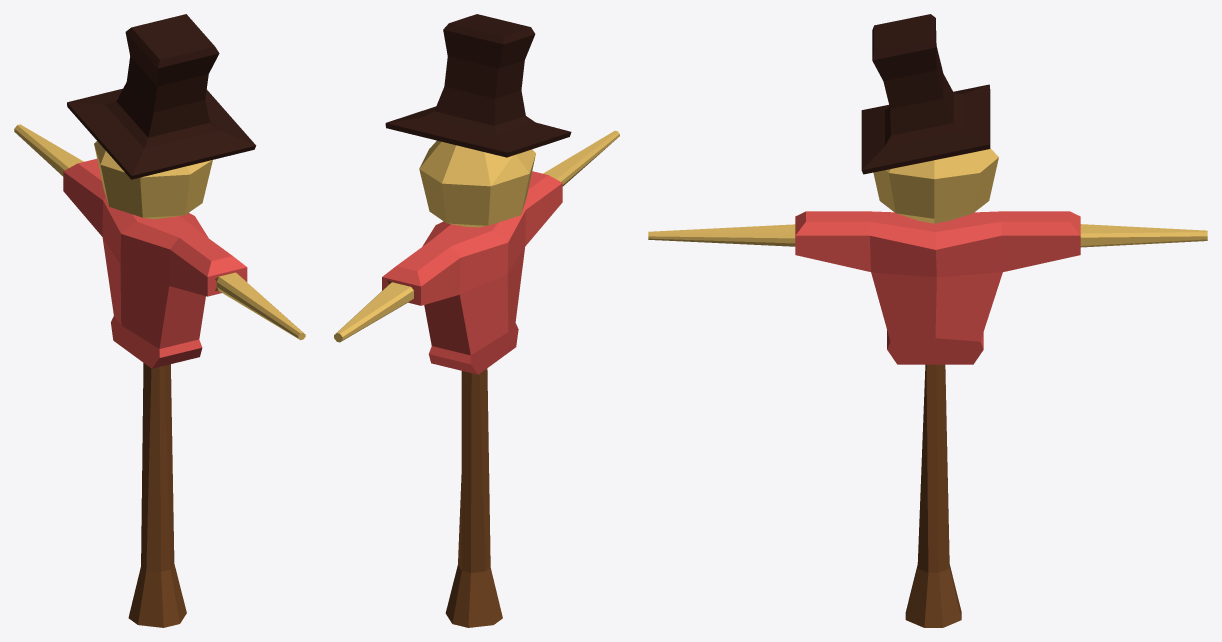
Rendered from Jam.scarerow.FINAL.fbx.
3 views of the same model, side by side, from view 1: azimuth 30°, elevation 25°; view 2: azimuth 150°, elevation 25°; view 3: azimuth 270°, elevation 25° (orthographic).
Parts seen in each view (by area): view 1: head; view 2: head; view 3: head.
Part boxes in pixels (<box>): head: <box>14,14,305,627</box>; head: <box>334,14,619,627</box>; head: <box>648,14,1207,627</box>.
Size of the model in its own units: 283 by 1294 by 1114.
